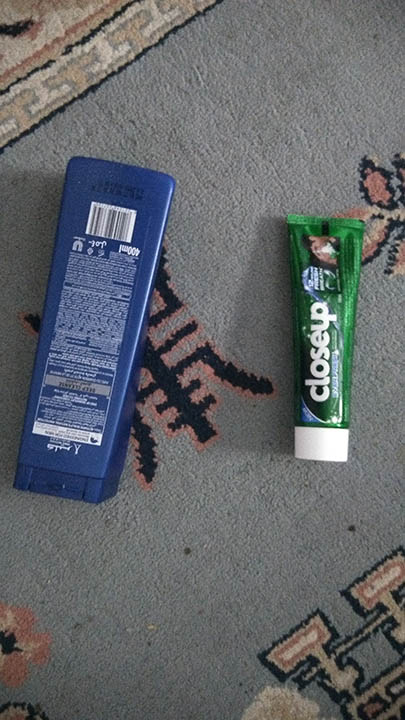Shampoo-Clear 4.7$: (26, 145, 162, 507)
Toothpaste-Closeup 3.04$: (284, 203, 363, 471)
